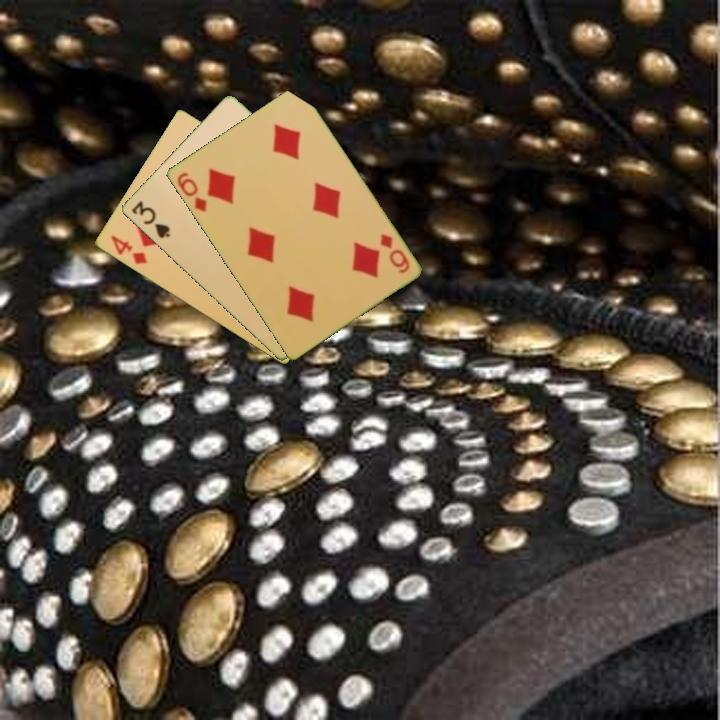3s: (127, 197, 173, 242)
4d: (107, 232, 150, 268)
6d: (173, 169, 209, 215), (376, 230, 412, 276)
